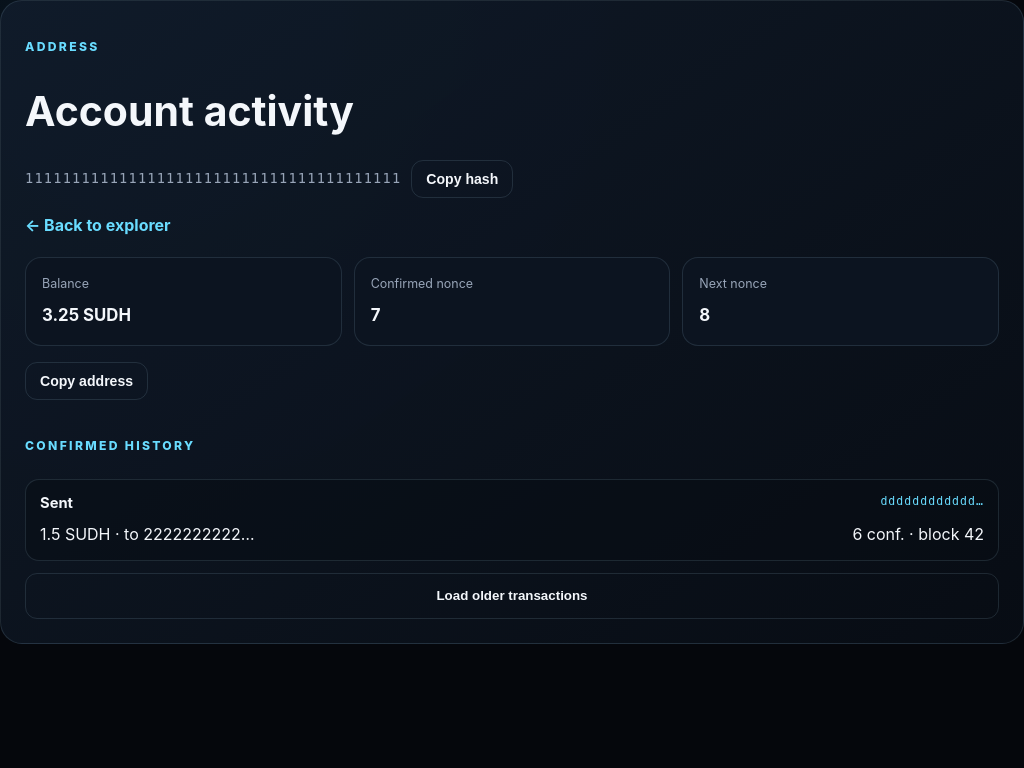
loads address balance and appends older history using the opaque cursor
Expected: the text "3.25 SUDH" is shown, [42,305,131,325]
Expected: the link "dddddddddddd" is shown, [25,479,999,560]
Click the button "Load older transactions". click: (512, 596)
box: [25,572,999,618]
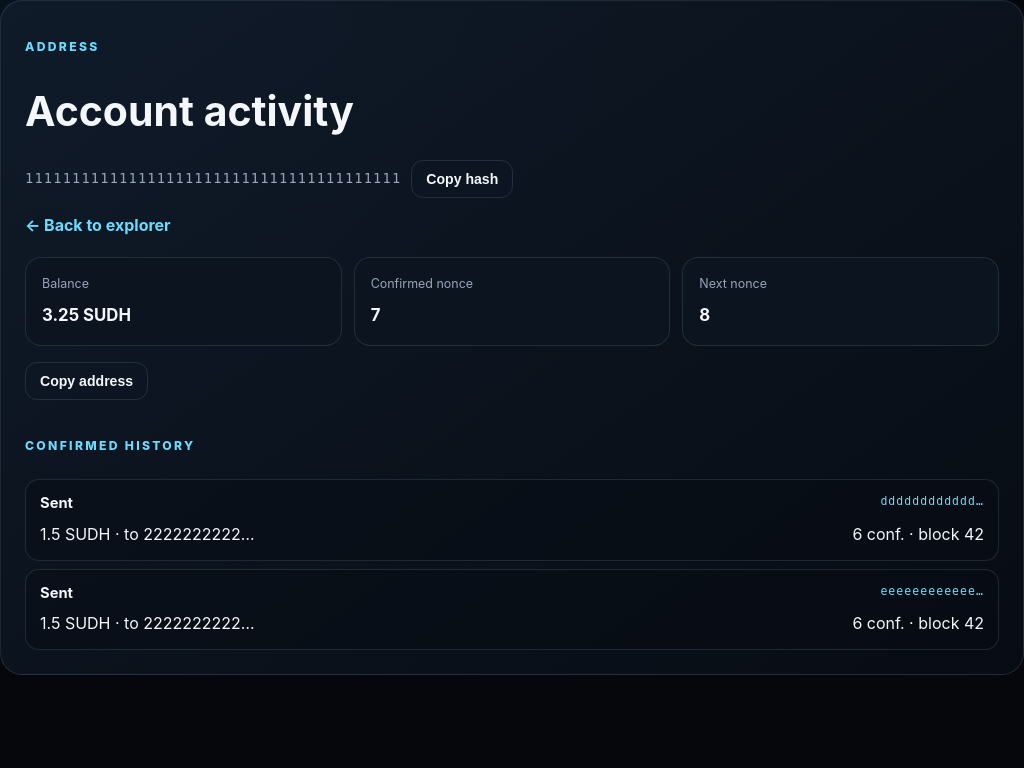
Expected: the link "eeeeeeeeeeee" is shown, [25,568,999,650]
